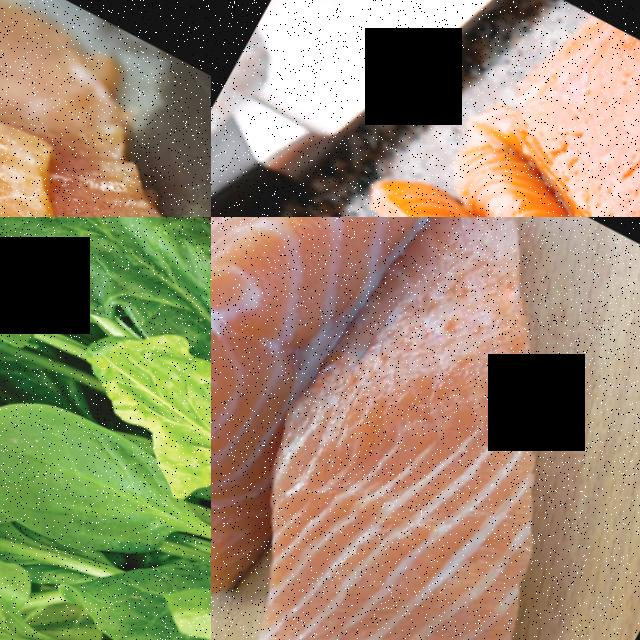salmon: (211, 217, 640, 640), (211, 217, 450, 571), (461, 0, 640, 217), (355, 165, 524, 217)
spinach: (0, 373, 201, 585), (0, 217, 211, 367), (79, 318, 211, 481)
